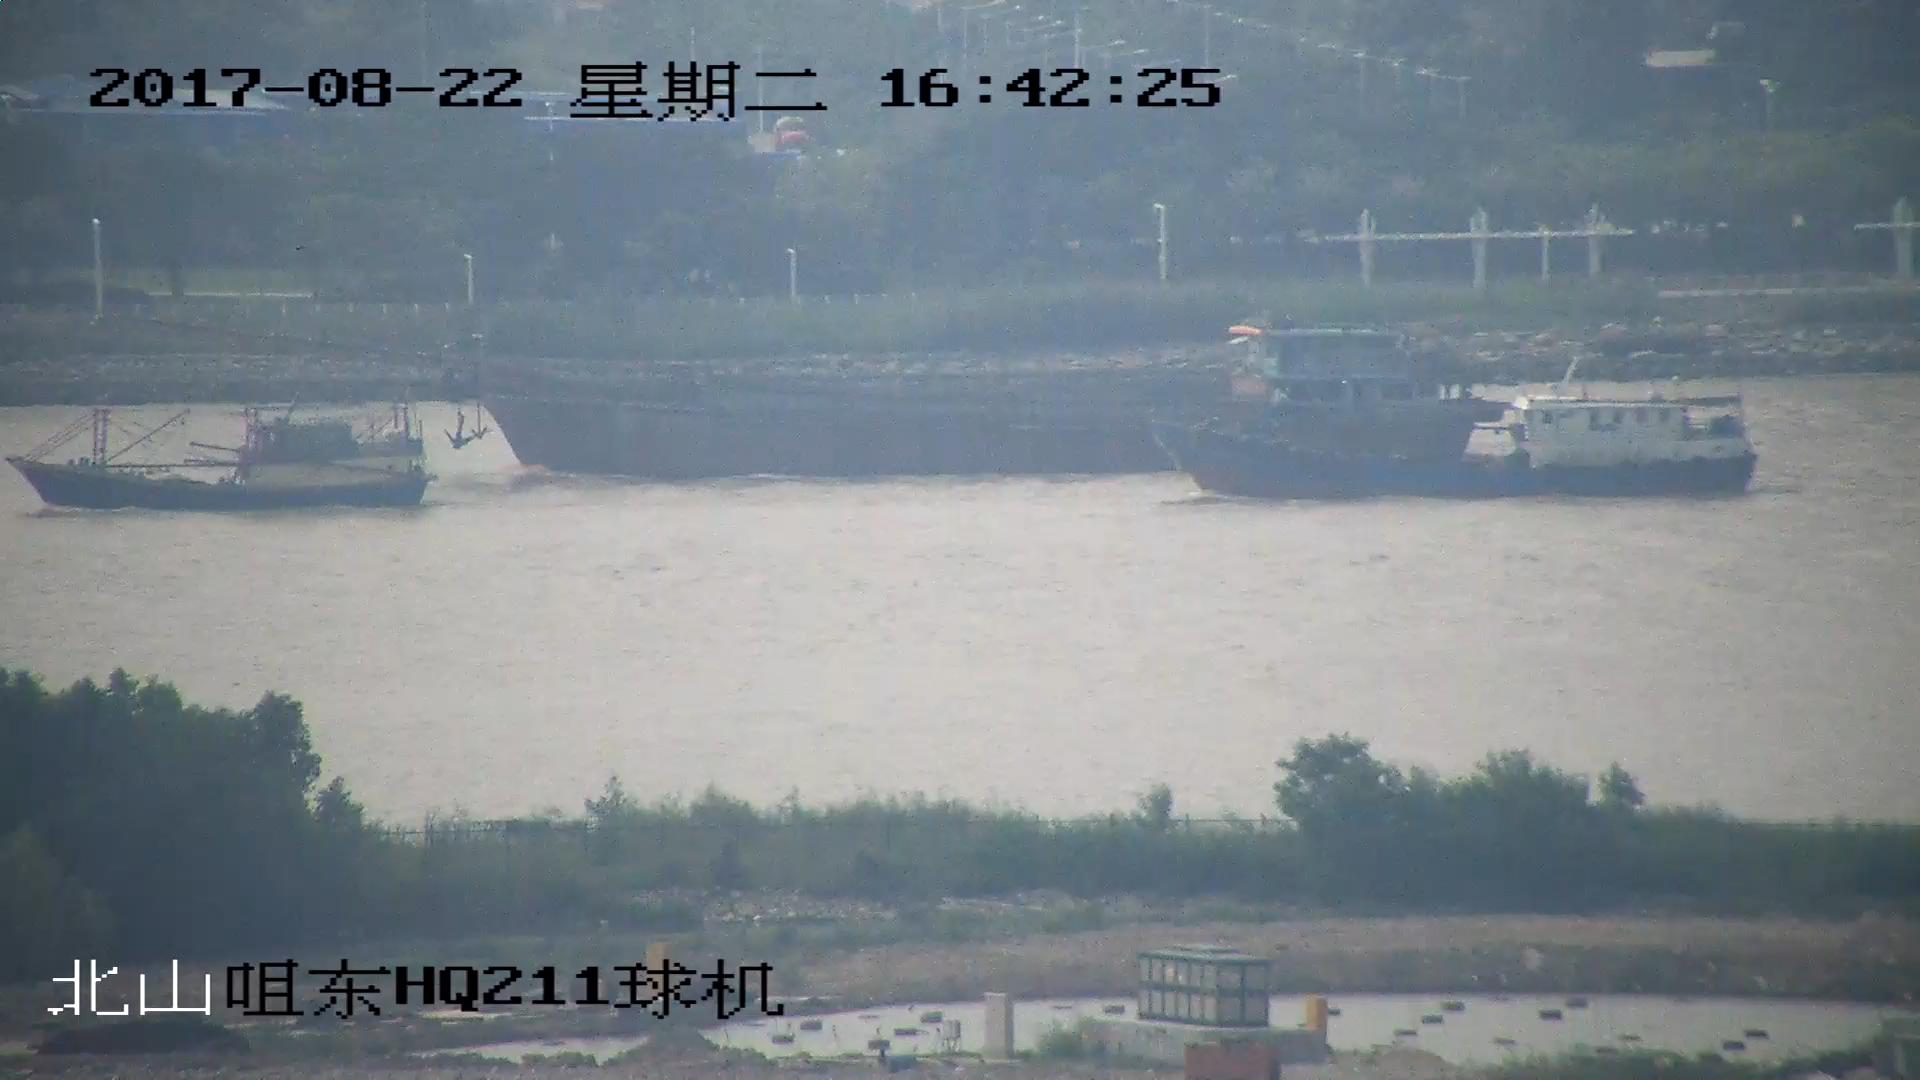bulk cargo carrier: (106, 310, 1487, 478)
fishing boat: (1155, 386, 1753, 503), (12, 393, 429, 507)
